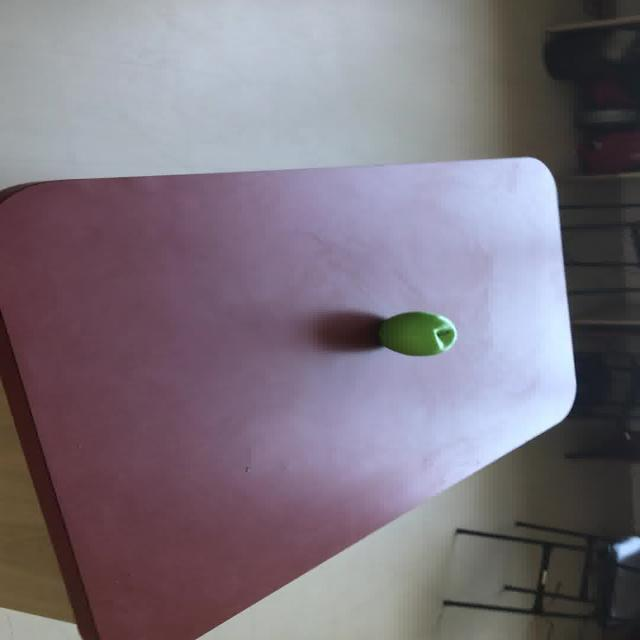apple: (377, 310, 456, 356)
